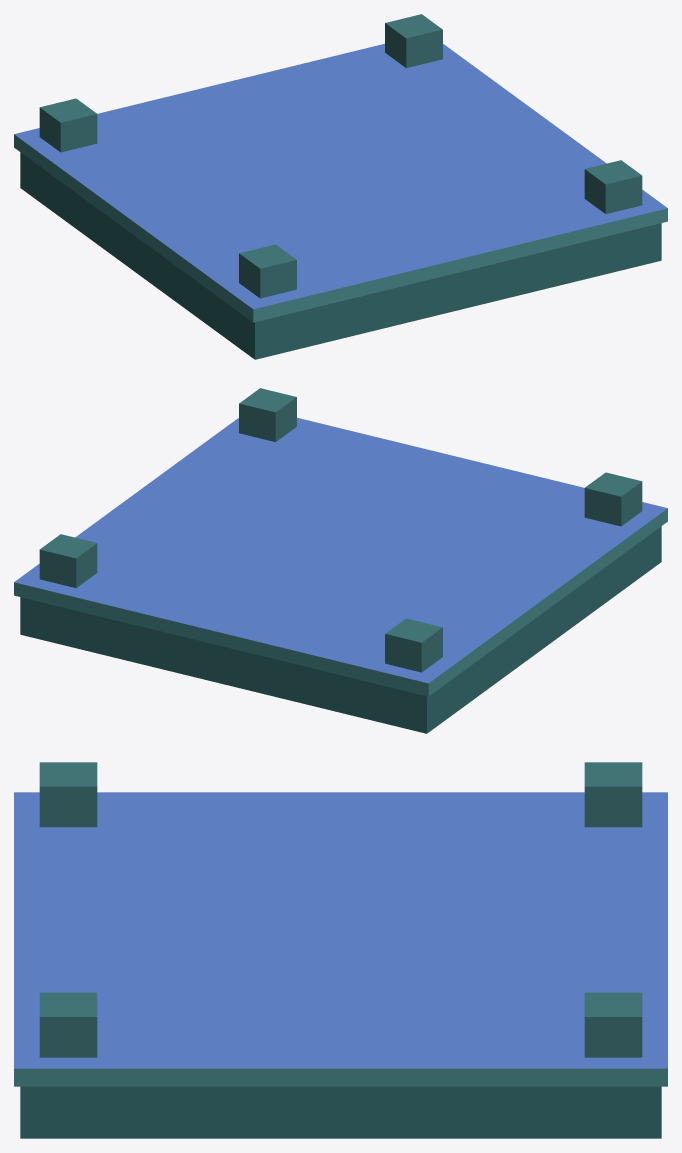
Rendered from launch_pad.glb.
3 renders of one model, top to bottom at view 1: azimuth 30°, elevation 25°; view 2: azimuth 150°, elevation 25°; view 3: azimuth 270°, elevation 25°, orthographic. The views are drawn at different scales.
Parts seen in each view (by area): view 1: launch_pad; view 2: launch_pad; view 3: launch_pad.
Boxes of the visible parts, x1,y1,x2,y2 form: launch_pad: [14, 14, 667, 359]; launch_pad: [14, 388, 667, 733]; launch_pad: [14, 762, 667, 1138].
Bounding box in the file's own units: 2.04 × 0.39 × 2.04.
